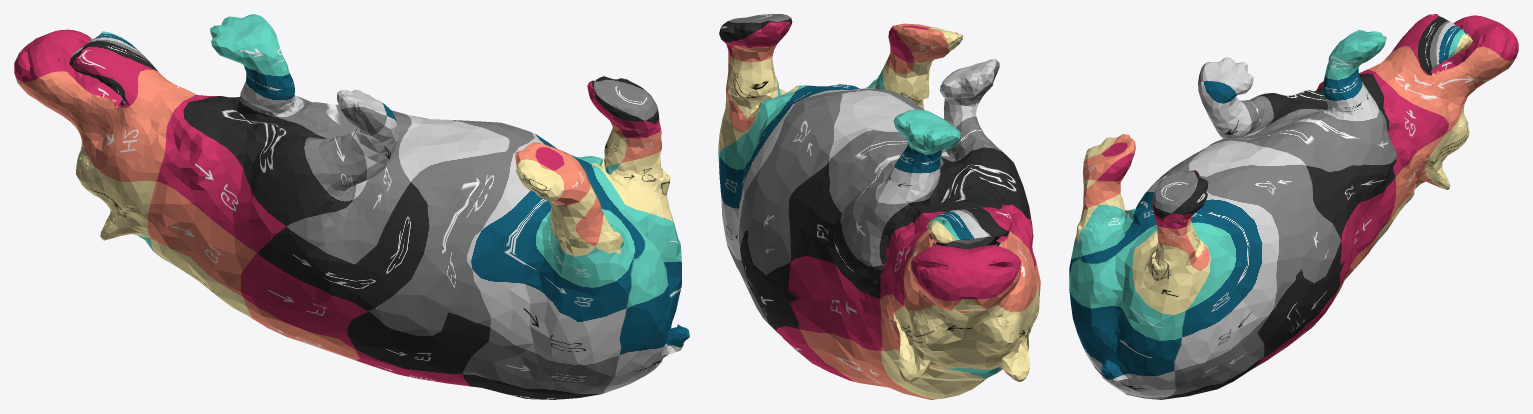
Rendered from cougar_02-hippo_03.obj.
3 views of the same model, side by side, from view 1: azimuth 30°, elevation 25°; view 2: azimuth 150°, elevation 25°; view 3: azimuth 270°, elevation 25° (orthographic). The views are drawn at different scales.
Parts seen in each view (by area): view 1: cougar_02-hippo_03_export; view 2: cougar_02-hippo_03_export; view 3: cougar_02-hippo_03_export.
Boxes of the visible parts, left/top/right/bottom form: cougar_02-hippo_03_export: left=14, top=14, right=689, bottom=399; cougar_02-hippo_03_export: left=718, top=14, right=1040, bottom=399; cougar_02-hippo_03_export: left=1069, top=14, right=1518, bottom=399.
Bounding box in the file's own units: 0.7165 × 0.4961 × 0.7299.
